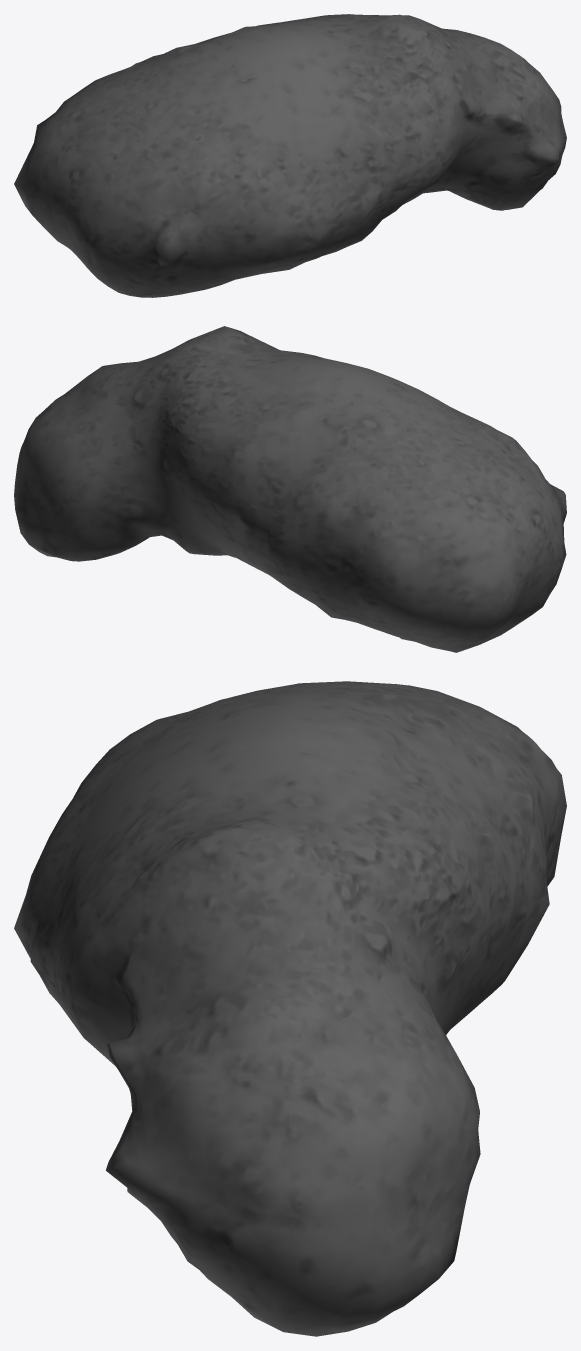
The model's file is asteroid-transformed.glb.
3 views of the same model, one above another, from view 1: azimuth 30°, elevation 25°; view 2: azimuth 150°, elevation 25°; view 3: azimuth 270°, elevation 25° (orthographic). The views are drawn at different scales.
Visible parts, largest first — view 1: itokawa_LP; view 2: itokawa_LP; view 3: itokawa_LP.
Part boxes in pixels (x1,y1,x2,y2): itokawa_LP: [14, 14, 566, 297]; itokawa_LP: [14, 326, 566, 652]; itokawa_LP: [14, 681, 566, 1336].
Bounding box in the file's own units: 535 × 232 × 290.
Materials: 1 (1 with a texture image).
